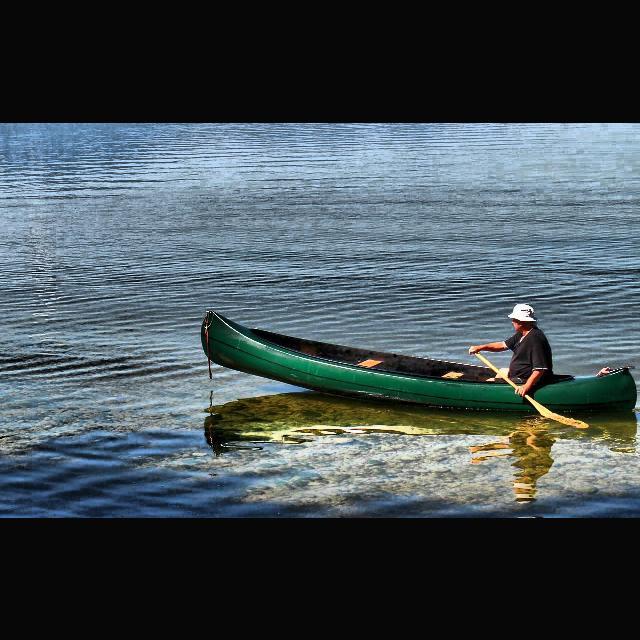kayak: (200, 308, 638, 414)
